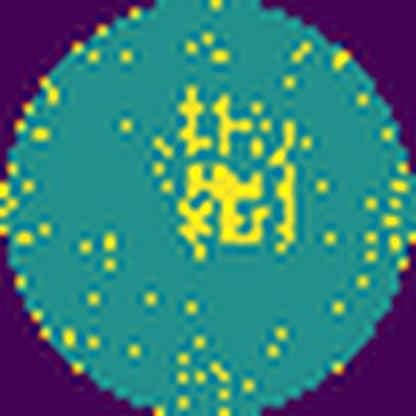Center: (181, 80, 300, 260)
